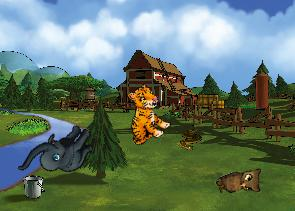elephant: (16, 108, 100, 196)
owl: (214, 163, 267, 205)
tiger: (110, 81, 177, 150)
